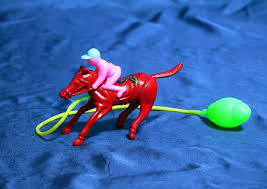bird: (99, 56, 178, 143)
kite: (31, 72, 163, 146), (36, 99, 135, 144)
person: (51, 51, 182, 140), (48, 52, 143, 128), (86, 49, 159, 137), (58, 47, 123, 114), (79, 47, 125, 96)
sports ball: (201, 97, 253, 129), (86, 49, 101, 60)
